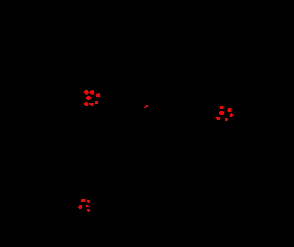Target: (84, 90, 89, 95), (90, 90, 94, 95), (86, 96, 91, 100), (219, 111, 224, 115), (96, 93, 100, 97), (84, 102, 88, 106), (227, 108, 231, 112), (78, 205, 82, 209), (89, 103, 93, 106), (144, 105, 148, 108), (230, 113, 233, 117), (216, 117, 220, 120), (81, 199, 85, 202), (95, 101, 98, 104), (220, 106, 223, 109), (225, 118, 228, 121), (87, 200, 90, 203), (87, 209, 90, 212), (86, 205, 89, 207)
